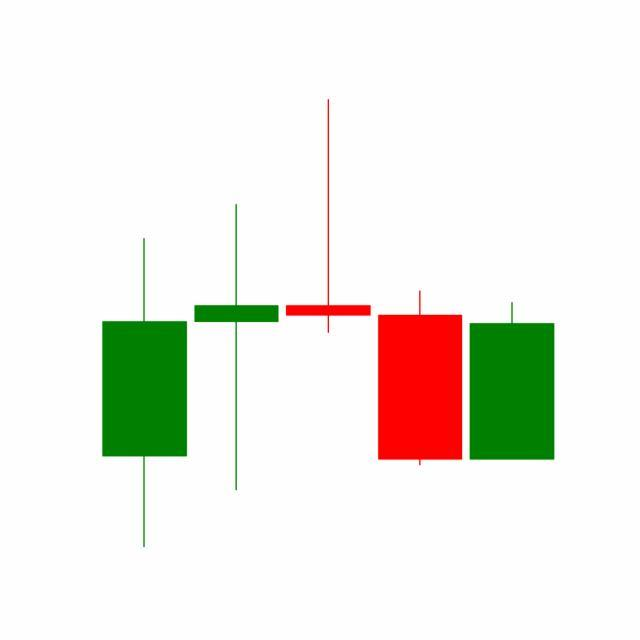Marubozu: (466, 300, 559, 462)
